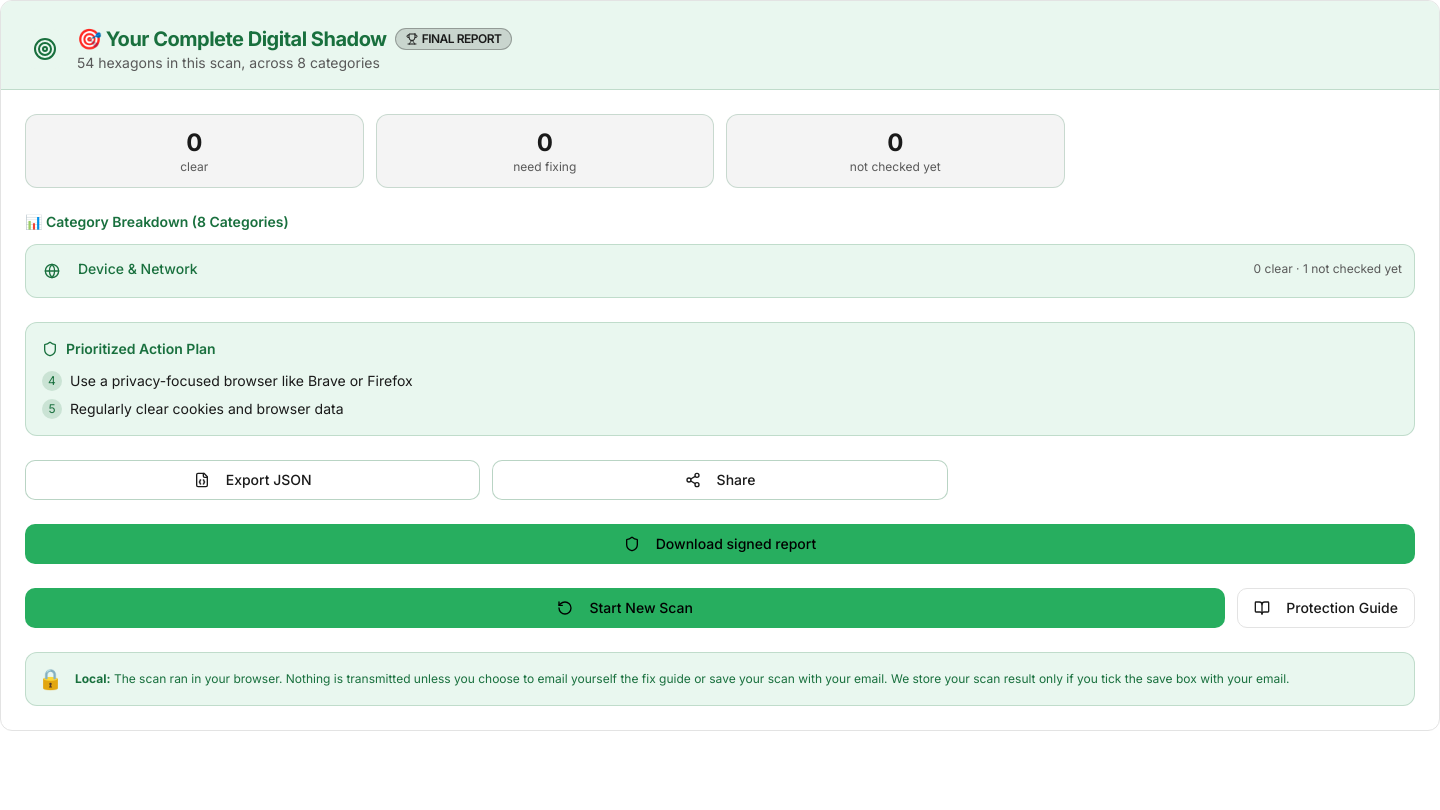
signed report button › says what to do when the server refuses, and downloads nothing
What coordinates should you click on to do the following:
click the button with test id "download-signed-report"
I would click on:
 (720, 544)
Its box is [25,524,1415,564].
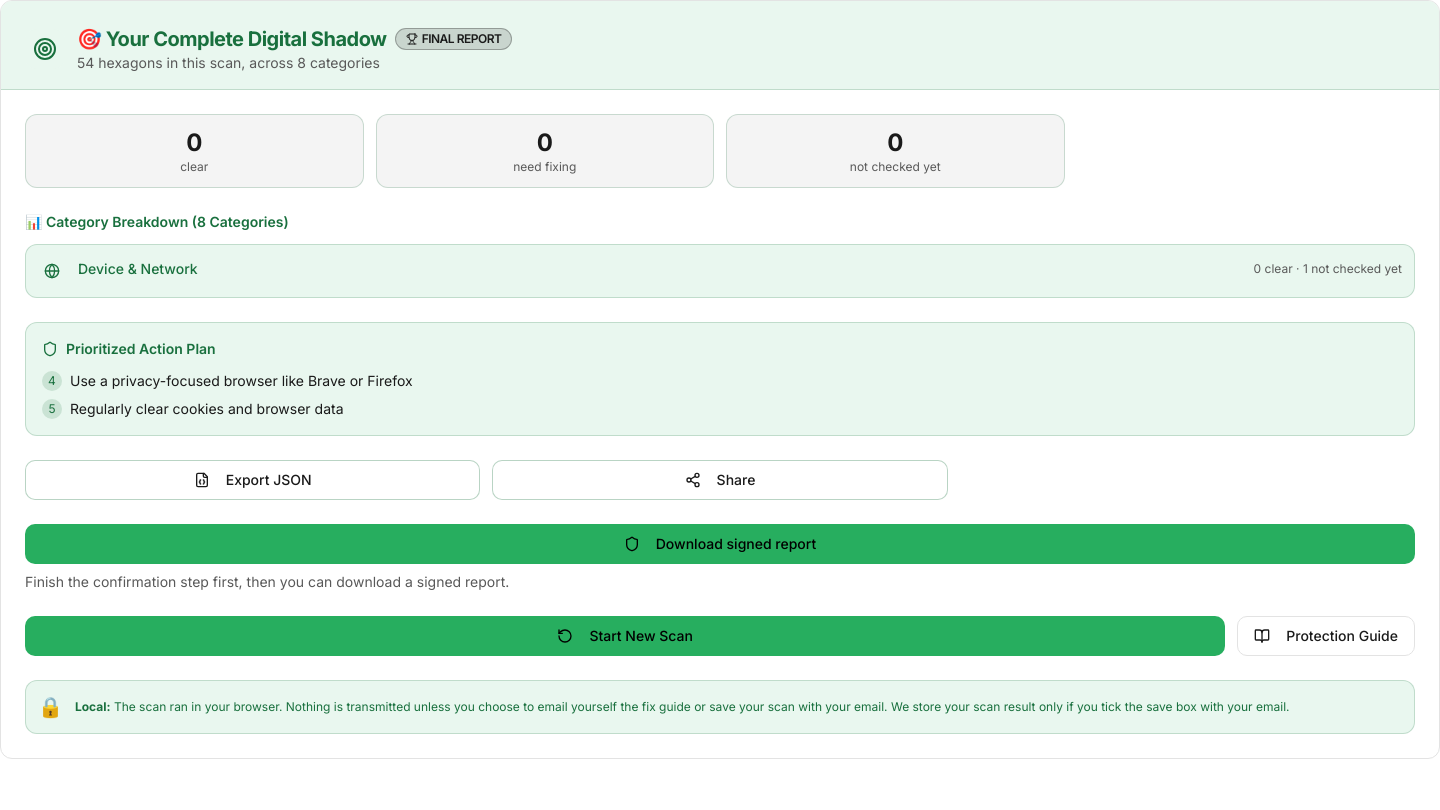
Now the message with test id "signed-report-message" shows "Finish the confirmation step", box [25,573,509,590]
